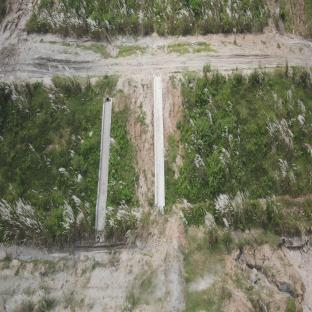slope_drain: (95, 97, 114, 231), (152, 74, 165, 208)
toe_drain: (0, 241, 148, 257)
vegetation: (179, 79, 256, 204)
